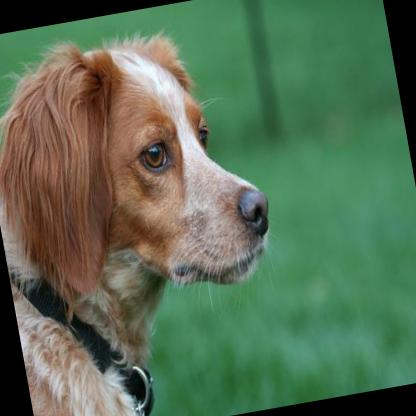Brittany_spaniel: (0, 10, 301, 416)
